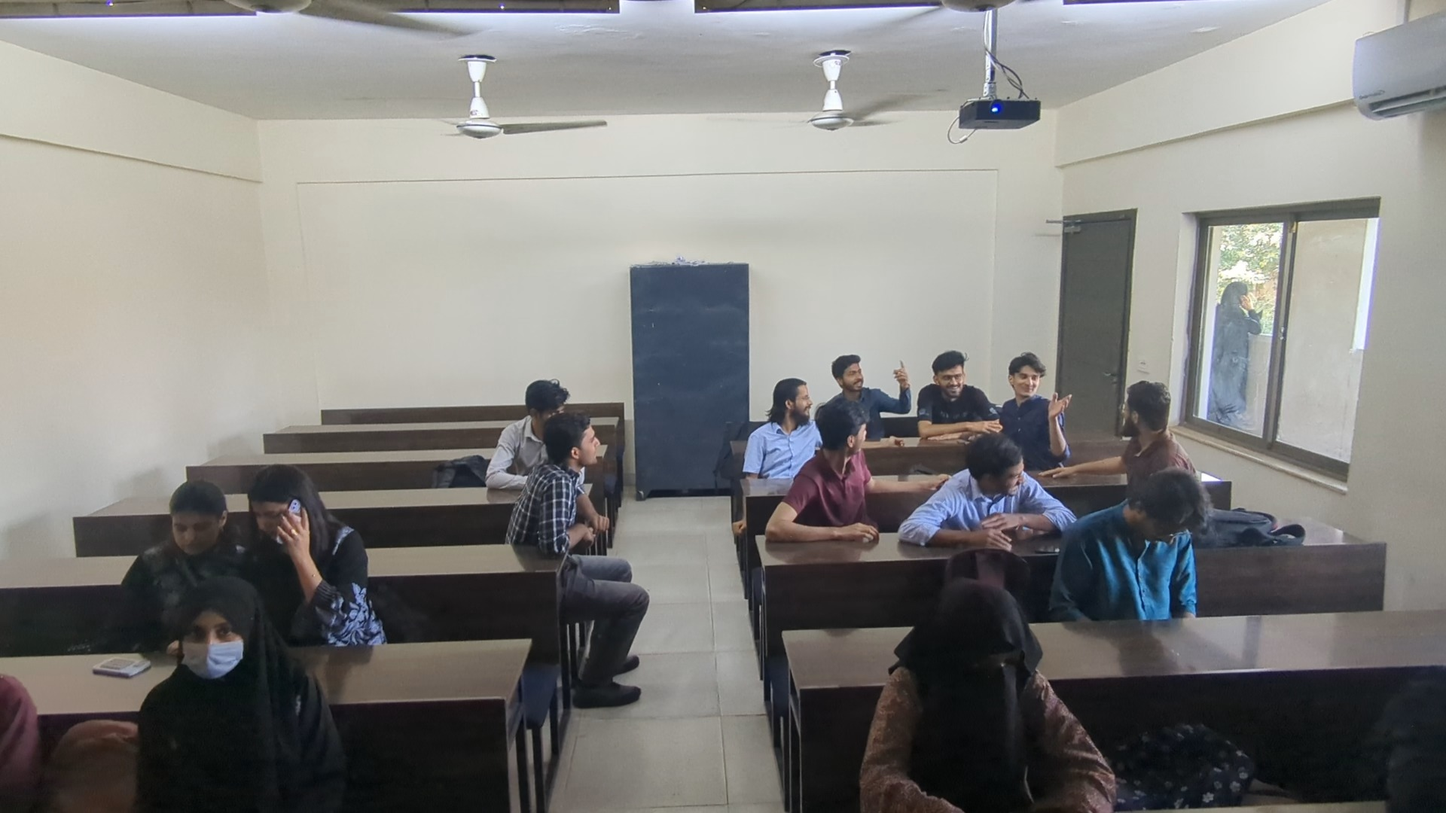handrise: (820, 332, 918, 426)
look_forward: (161, 588, 260, 699), (927, 335, 979, 425), (1012, 333, 1069, 415)
sleep: (145, 480, 224, 583)
turn_head: (536, 415, 615, 576), (955, 437, 1040, 543), (820, 417, 885, 527), (745, 366, 813, 464), (492, 377, 572, 433)
using_device: (888, 584, 1040, 805), (1096, 473, 1200, 619), (230, 480, 343, 596)
